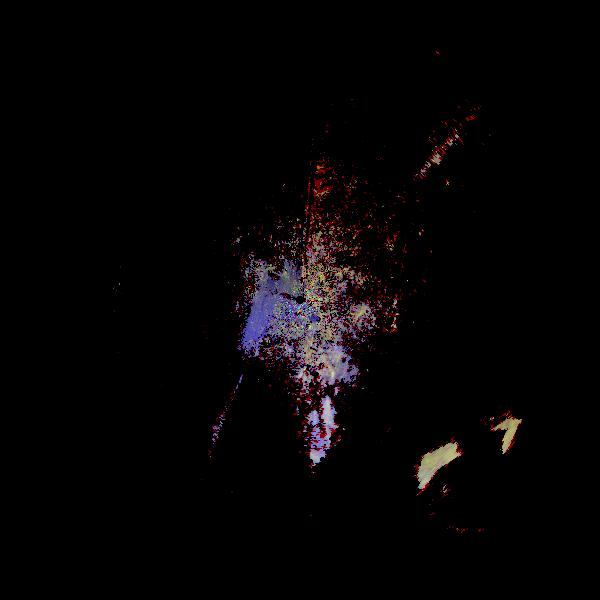roost: (404, 433, 497, 526), (492, 406, 576, 490)
